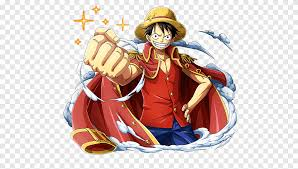luffy: (84, 6, 214, 148)
